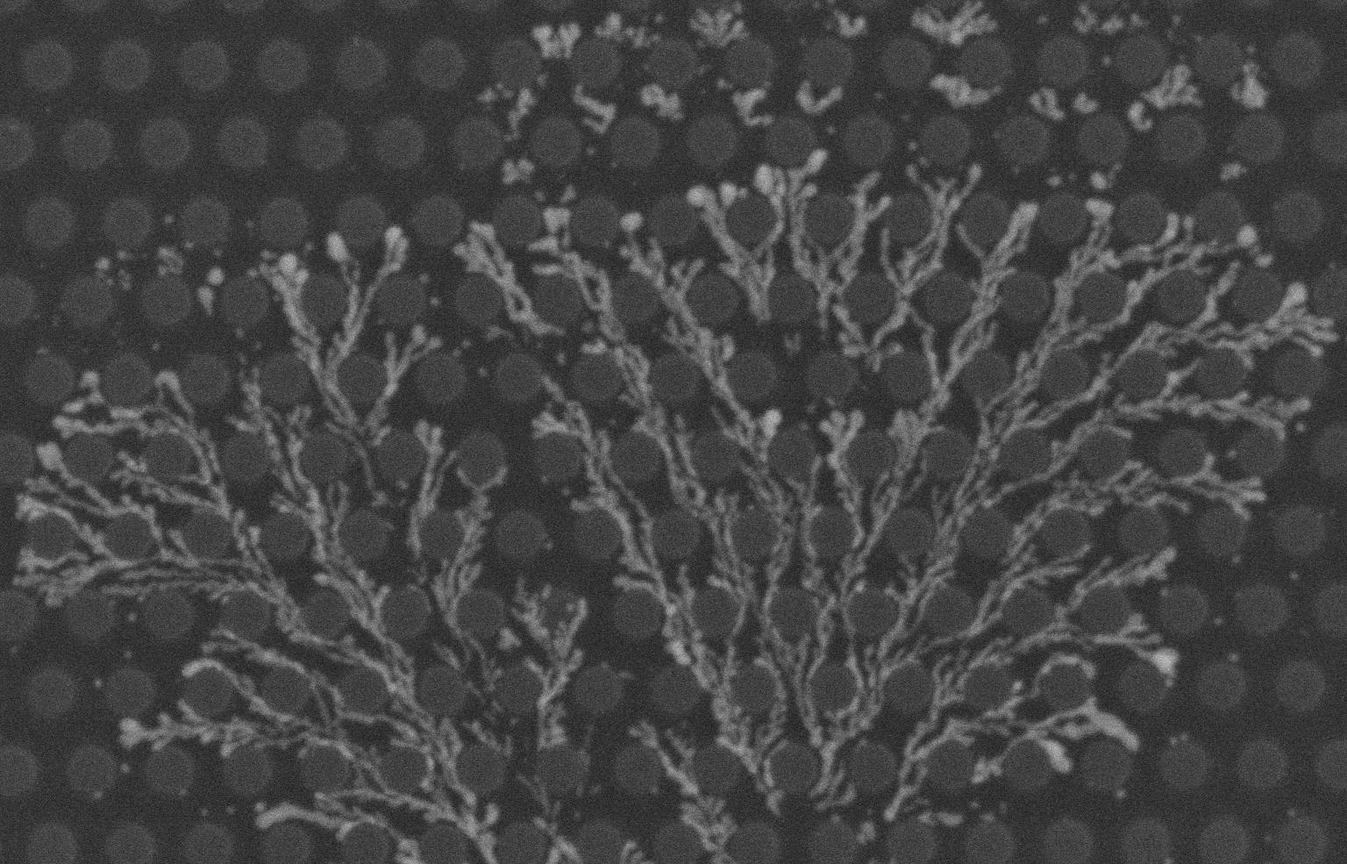Dendrite: (979, 204, 1119, 465), (533, 379, 672, 602), (233, 509, 397, 688), (622, 228, 757, 435), (921, 203, 1037, 437), (53, 371, 228, 514), (203, 631, 429, 741), (1012, 453, 1265, 551), (919, 518, 1087, 658), (866, 164, 980, 369), (1080, 215, 1258, 344), (883, 658, 1023, 820), (809, 610, 916, 809), (641, 404, 751, 591), (1062, 370, 1310, 452), (839, 411, 929, 634), (287, 440, 386, 641), (17, 531, 284, 603), (1007, 547, 1174, 657), (1096, 262, 1239, 389), (252, 253, 354, 425), (615, 567, 730, 715), (796, 175, 888, 355), (630, 722, 740, 864), (788, 460, 846, 728), (38, 444, 173, 557), (120, 683, 325, 757), (1165, 282, 1336, 370), (562, 253, 655, 412), (317, 783, 499, 864), (723, 410, 807, 582), (972, 698, 1138, 782), (510, 580, 587, 749), (529, 208, 625, 343), (433, 461, 506, 625), (455, 225, 561, 333), (688, 182, 764, 325), (119, 700, 310, 756), (921, 444, 1009, 559), (327, 228, 406, 356), (1023, 614, 1177, 678), (300, 728, 417, 802), (227, 374, 297, 497), (752, 151, 826, 266), (417, 720, 485, 841), (716, 694, 785, 813), (324, 394, 388, 505), (881, 557, 957, 650), (256, 791, 393, 839), (821, 411, 864, 551), (427, 617, 498, 701), (110, 452, 213, 508), (703, 572, 754, 683), (878, 413, 933, 514), (379, 634, 435, 733), (522, 778, 585, 864), (18, 473, 91, 542), (743, 583, 791, 675), (410, 421, 453, 522), (716, 712, 766, 795), (1000, 441, 1073, 497), (1114, 213, 1191, 264), (911, 0, 996, 46), (254, 401, 313, 457), (385, 325, 438, 383), (1028, 652, 1092, 695), (1143, 63, 1201, 110), (690, 0, 746, 47), (930, 75, 1001, 109), (1230, 48, 1268, 109), (953, 637, 1012, 675), (597, 14, 659, 48), (572, 86, 616, 132), (1009, 397, 1074, 425), (533, 22, 581, 59), (1073, 0, 1125, 34), (357, 396, 390, 448), (796, 79, 842, 116), (641, 83, 683, 121), (912, 313, 938, 374), (507, 89, 536, 139), (464, 720, 508, 752), (1237, 226, 1273, 265), (768, 671, 792, 727), (731, 89, 766, 125), (1030, 88, 1065, 121), (184, 660, 238, 681), (909, 811, 965, 830), (394, 837, 431, 864), (341, 387, 383, 408), (475, 83, 511, 107), (834, 11, 865, 38), (502, 160, 532, 185), (1128, 101, 1152, 132), (157, 246, 183, 274), (1087, 198, 1113, 222), (1072, 92, 1098, 113), (497, 627, 519, 651), (1221, 161, 1246, 181), (1090, 170, 1115, 189), (196, 285, 212, 314), (110, 268, 131, 289), (39, 444, 58, 466), (856, 823, 875, 845), (620, 211, 641, 230), (408, 526, 421, 555), (96, 256, 110, 282), (207, 266, 224, 285), (1046, 173, 1061, 187), (381, 385, 393, 402), (386, 332, 393, 350), (935, 382, 944, 393), (100, 258, 105, 268), (768, 591, 771, 592), (21, 501, 22, 503), (451, 734, 452, 735), (1243, 236, 1244, 237)
